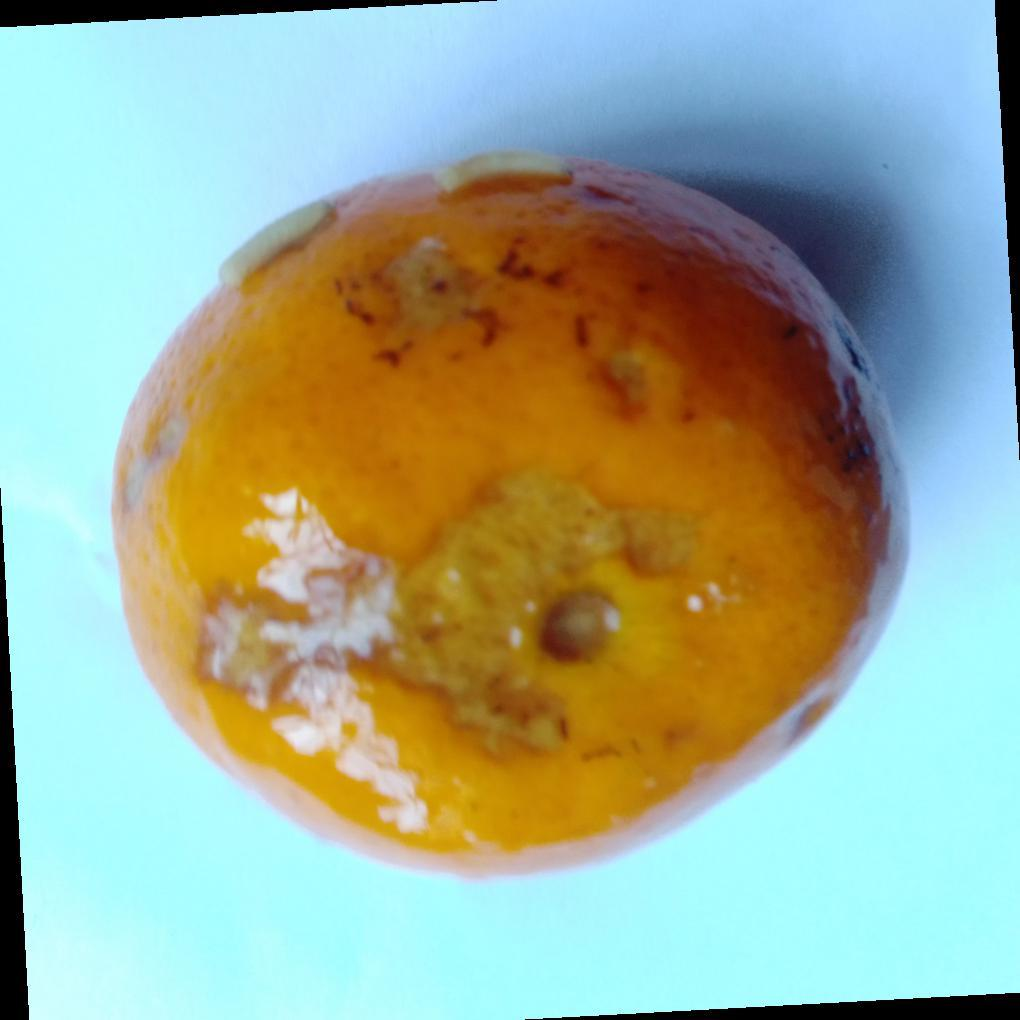FreshOrange: (109, 151, 908, 883)
